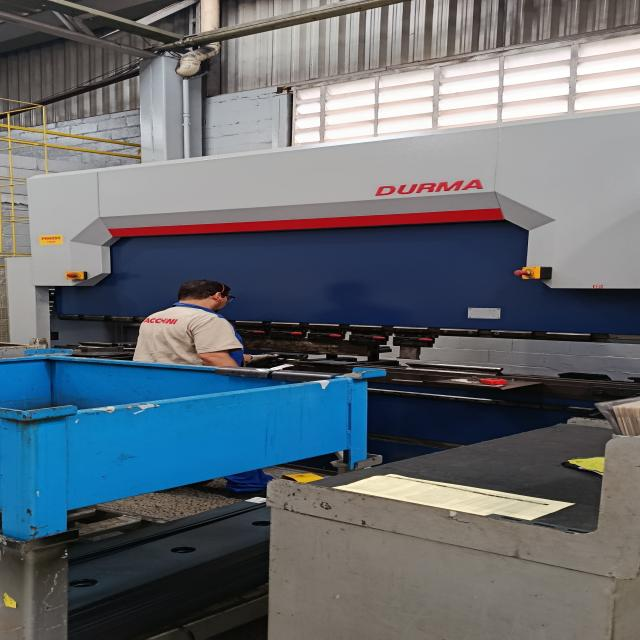oculos-epi: (221, 293, 235, 302)
